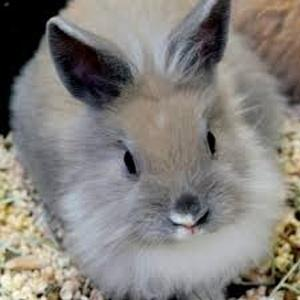rabbit: (11, 0, 286, 299)
